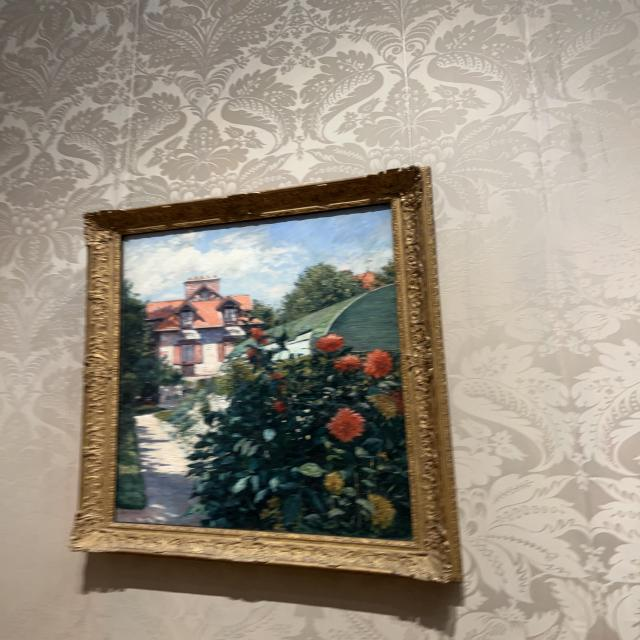summer: (116, 204, 413, 543)
